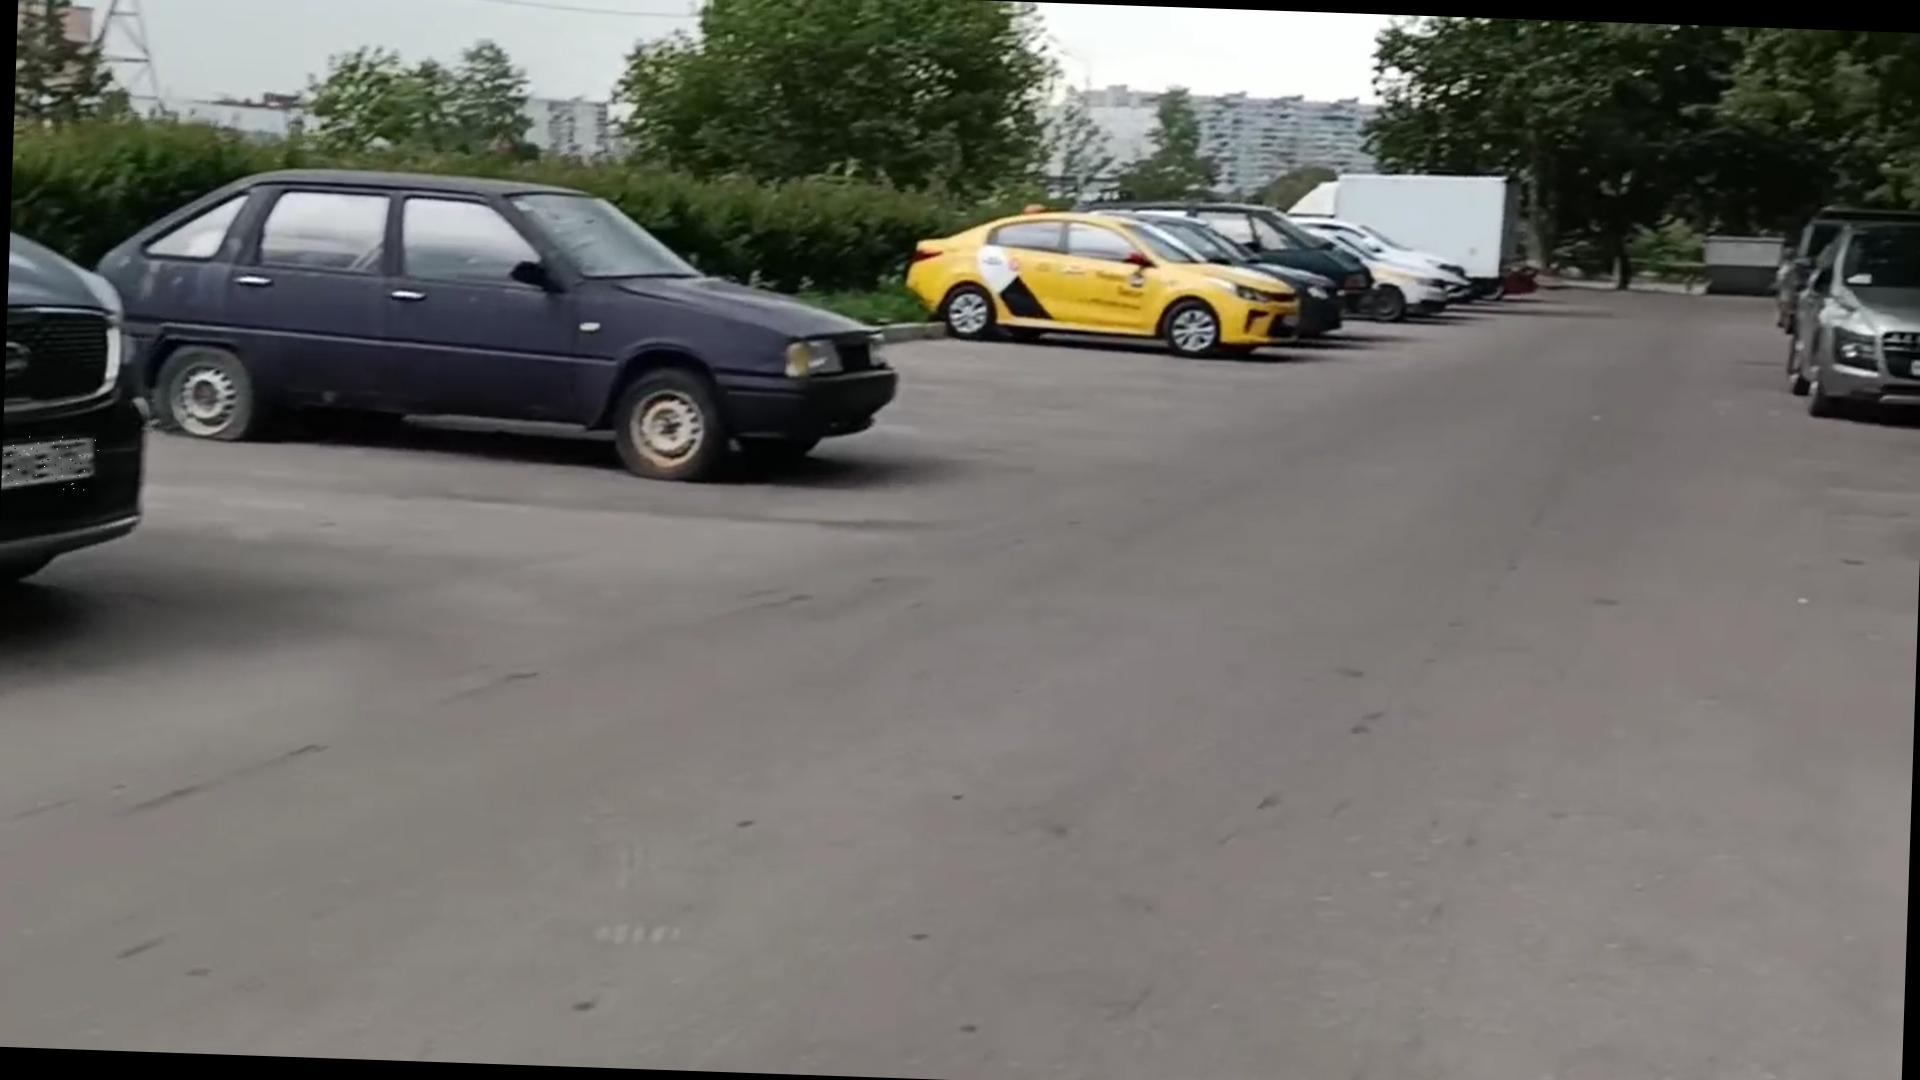plate: (2, 436, 101, 492)
